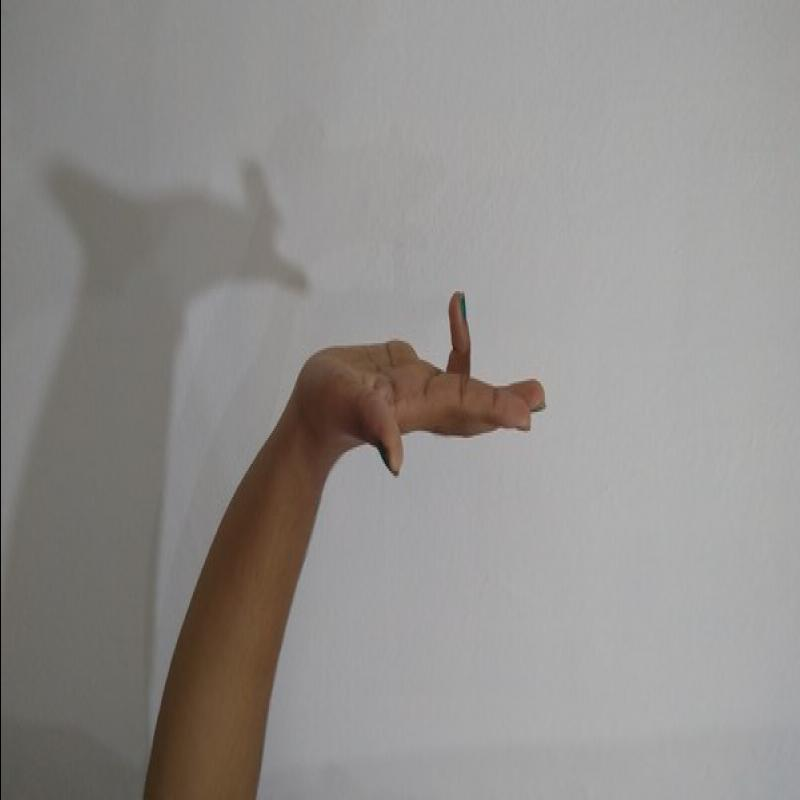Pathaaka: (284, 283, 557, 484)
